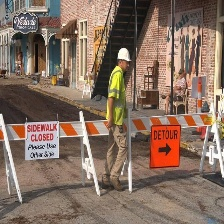helmet: (117, 47, 133, 63)
person: (105, 46, 134, 193)
vest: (106, 64, 127, 127)
